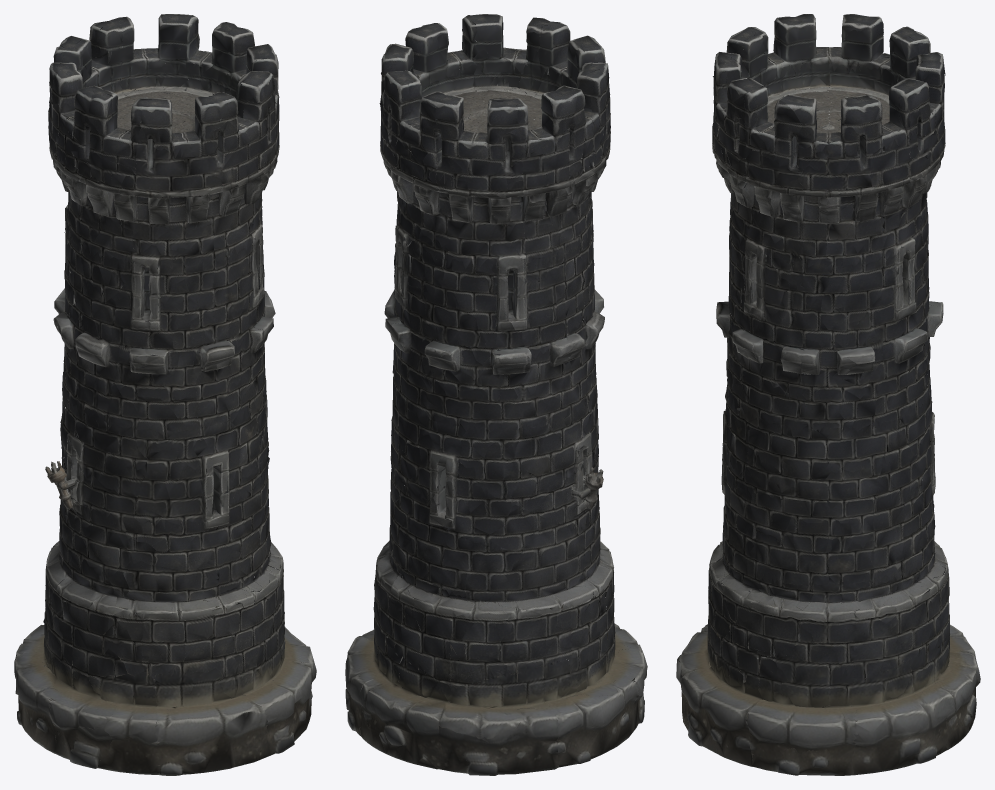
File: M08_WallTower.fbx
3 renders of one model, left to right at view 1: azimuth 30°, elevation 25°; view 2: azimuth 150°, elevation 25°; view 3: azimuth 270°, elevation 25°, orthographic.
Parts seen in each view (by area): view 1: M08_WallTower.018; view 2: M08_WallTower.018; view 3: M08_WallTower.018.
Boxes of the visible parts, left/top/right/bottom form: M08_WallTower.018: left=14, top=14, right=316, bottom=775; M08_WallTower.018: left=345, top=14, right=647, bottom=775; M08_WallTower.018: left=676, top=14, right=980, bottom=775.
Size of the model in its own units: 4.99 by 12 by 5.05.
1 material, 1 textured.
